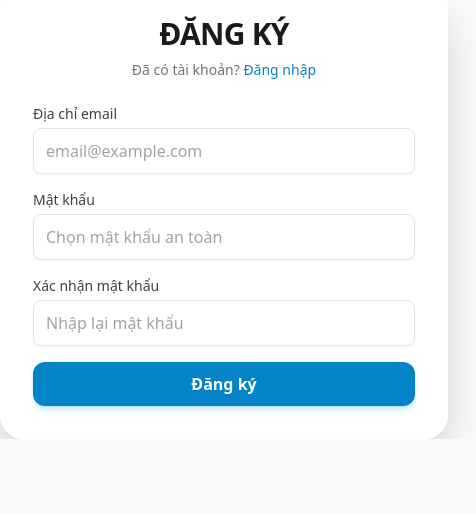
Test case: RegisterPage › F1.7 - shows error when passwords do not match
This screenshot has width=476, height=514.
Type "test@example.com" into the field with placeholder "email@example.com" at [224, 151], box x1=33 y1=128 x2=415 y2=174
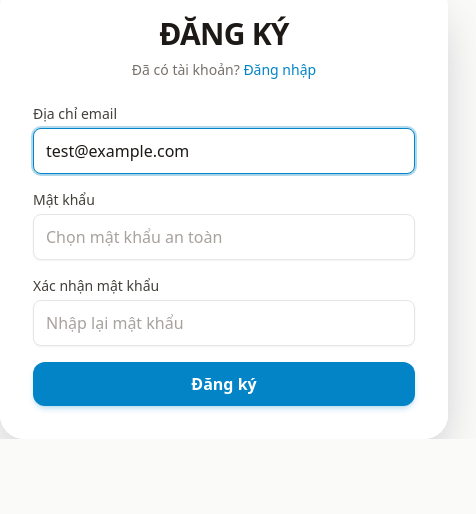
Type "password123" into the password field with placeholder "Chọn mật khẩu an toàn" at [224, 237], box x1=33 y1=214 x2=415 y2=260
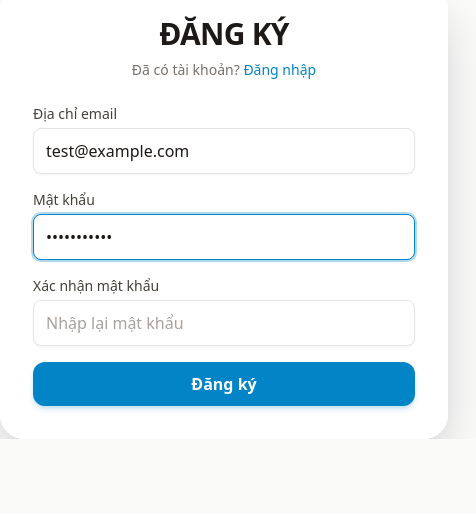
Type "differentPassword" into the password field with placeholder "Nhập lại mật khẩu" at [224, 323], box x1=33 y1=300 x2=415 y2=346
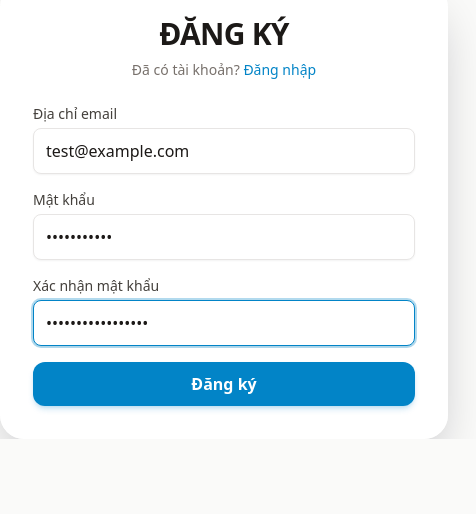
Click the button "Đăng ký" at [224, 384], box x1=33 y1=362 x2=415 y2=406
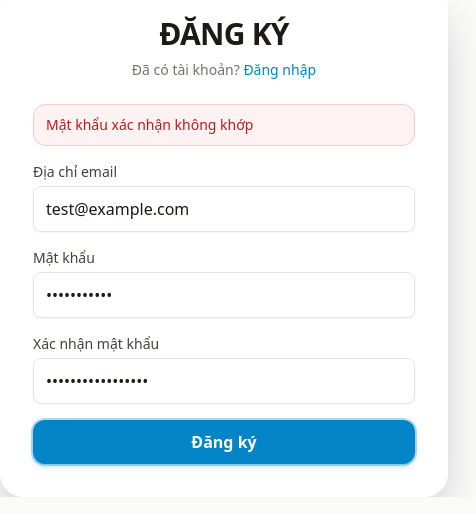
Expected: the text "Mật khẩu xác nhận không khớp" is shown, x1=33 y1=104 x2=415 y2=146
